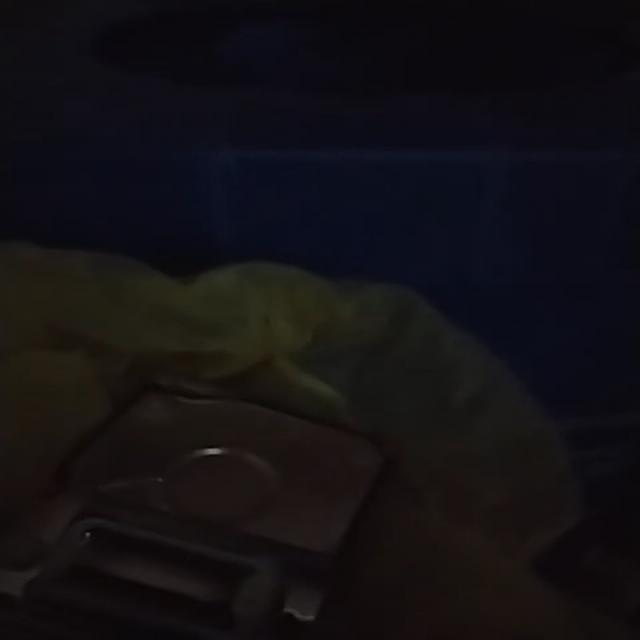bin: (2, 0, 640, 624)
metal: (3, 393, 383, 640)
